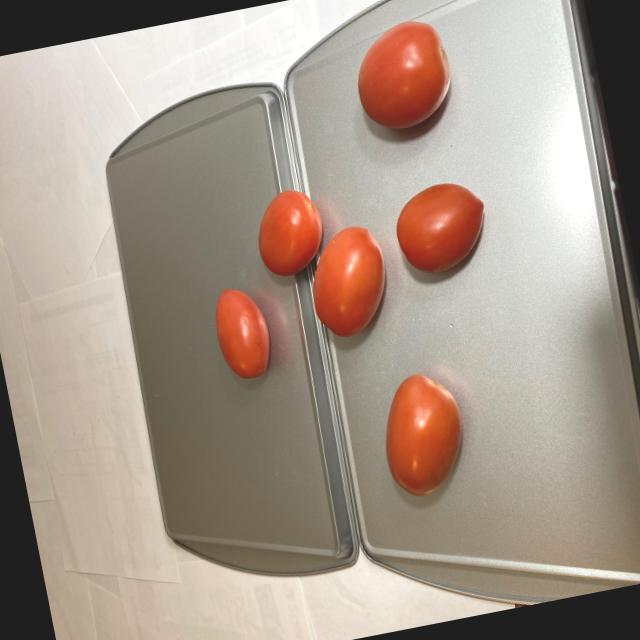tomato: (191, 149, 514, 392), (369, 366, 480, 510), (344, 11, 466, 139)
